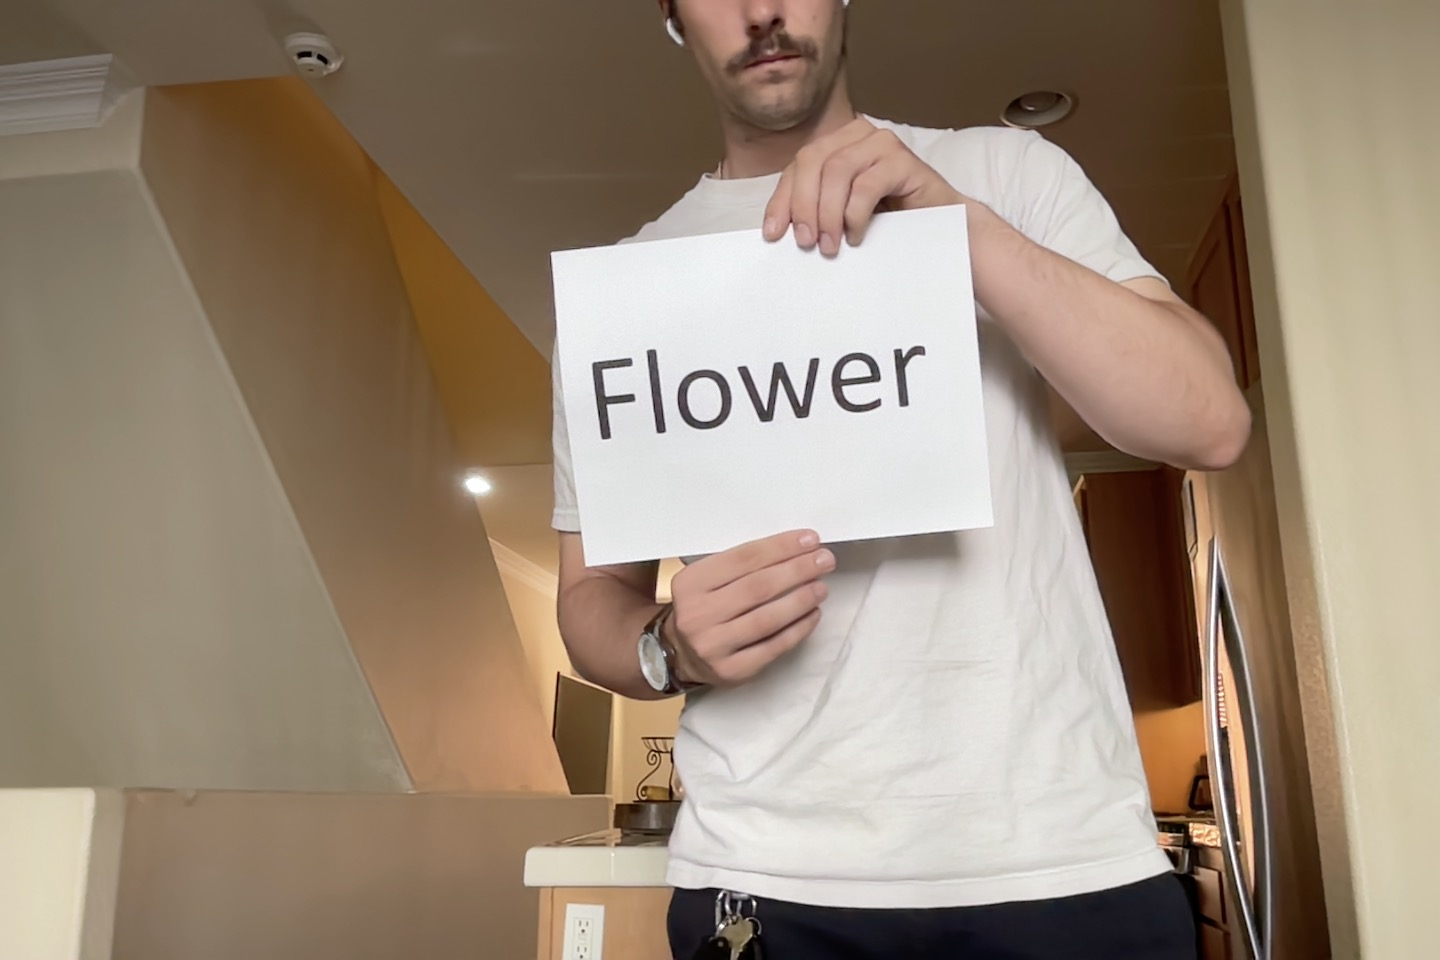word: (588, 339, 929, 446)
